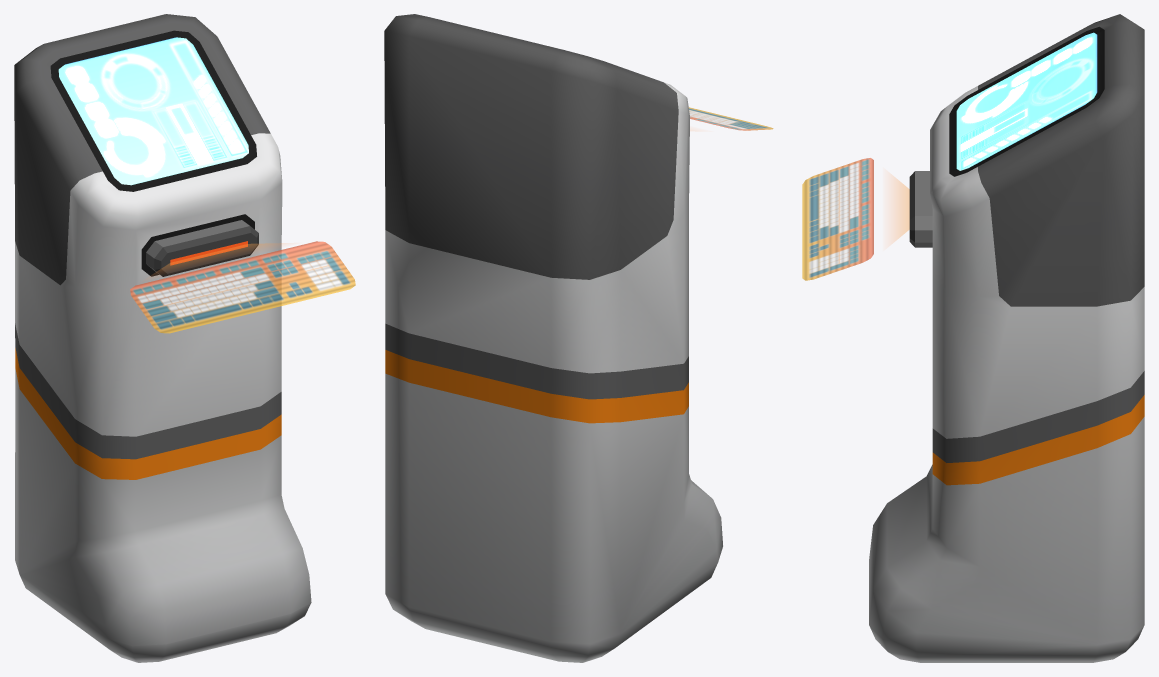
File: Terminal_012.glb
The picture shows the model from 3 angles, left to right: view 1: azimuth 30°, elevation 25°; view 2: azimuth 150°, elevation 25°; view 3: azimuth 270°, elevation 25°; orthographic projection. The views are drawn at different scales.
Visible parts, largest first — view 1: Terminal_012; view 2: Terminal_012; view 3: Terminal_012.
Boxes of the visible parts, left/top/right/bottom form: Terminal_012: left=14, top=14, right=355, bottom=662; Terminal_012: left=384, top=14, right=773, bottom=662; Terminal_012: left=802, top=14, right=1144, bottom=662.
Bounding box in the file's own units: 0.6095 × 1.44 × 0.7892.
6 materials, 5 textured.
